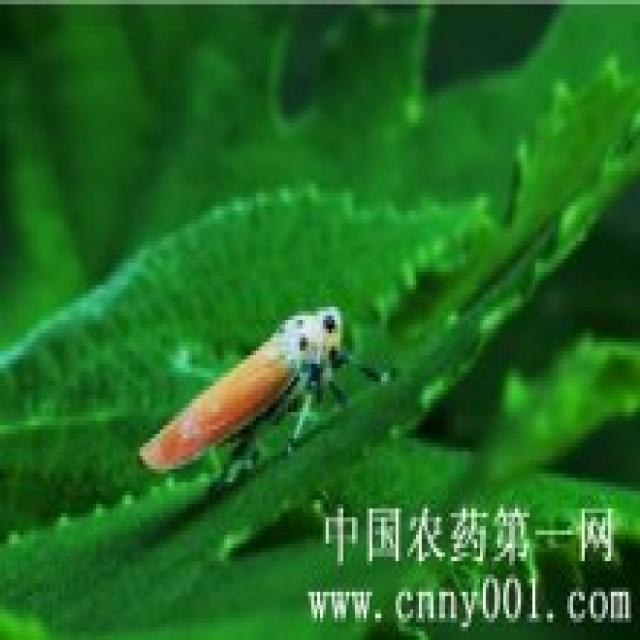Yechan: (129, 297, 368, 486)
